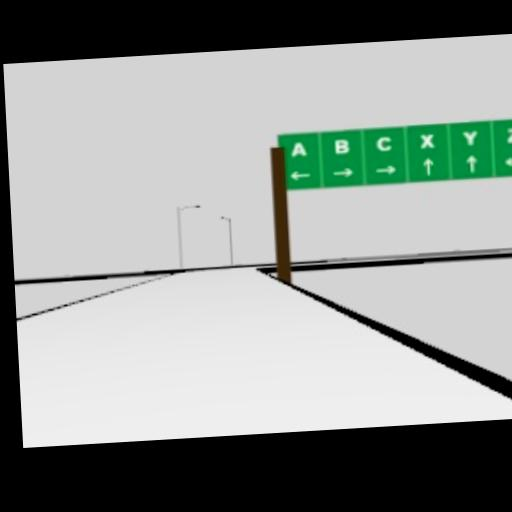A: (290, 141, 308, 159)
B: (334, 138, 351, 155)
C: (374, 135, 395, 153)
Left: (289, 169, 311, 181), (504, 156, 512, 166)
Right: (330, 166, 354, 179), (374, 163, 398, 176)
Straight: (464, 153, 477, 174), (422, 156, 434, 177)
X: (419, 131, 436, 150)
Y: (461, 128, 478, 145)
Z: (504, 126, 512, 145)
